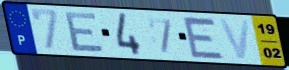4: (115, 11, 143, 57)
7: (28, 7, 64, 53), (148, 17, 174, 55)
E: (180, 15, 227, 61), (64, 11, 107, 53)
V: (217, 17, 252, 61)
